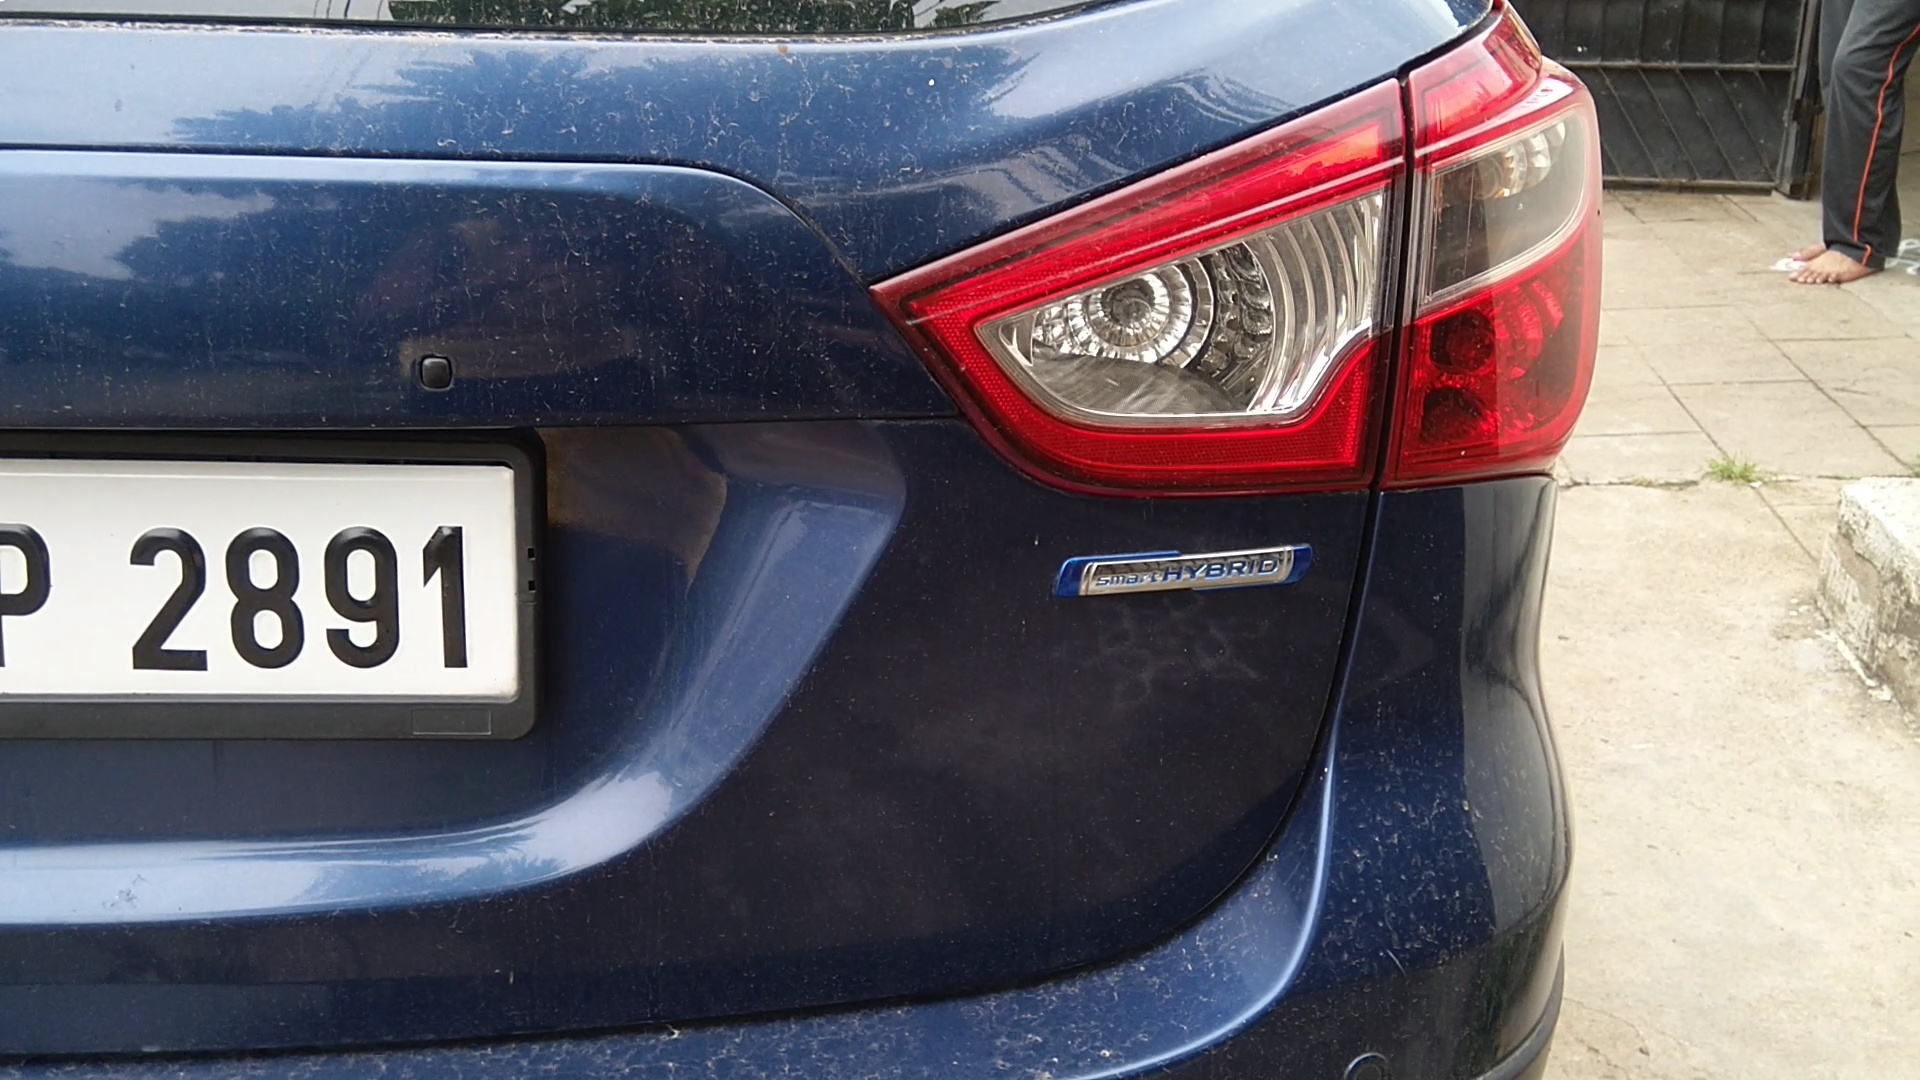shvs: (1044, 522, 1332, 628)
